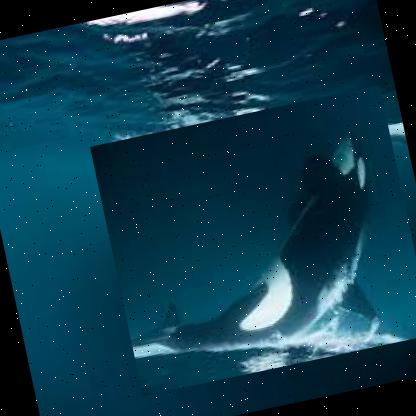killer_whale: (89, 84, 415, 397)
